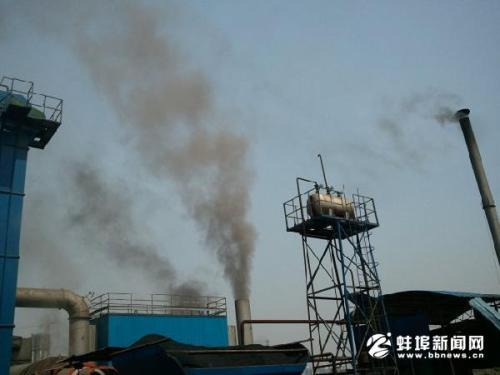smoke: (68, 1, 253, 294), (407, 92, 461, 129)
